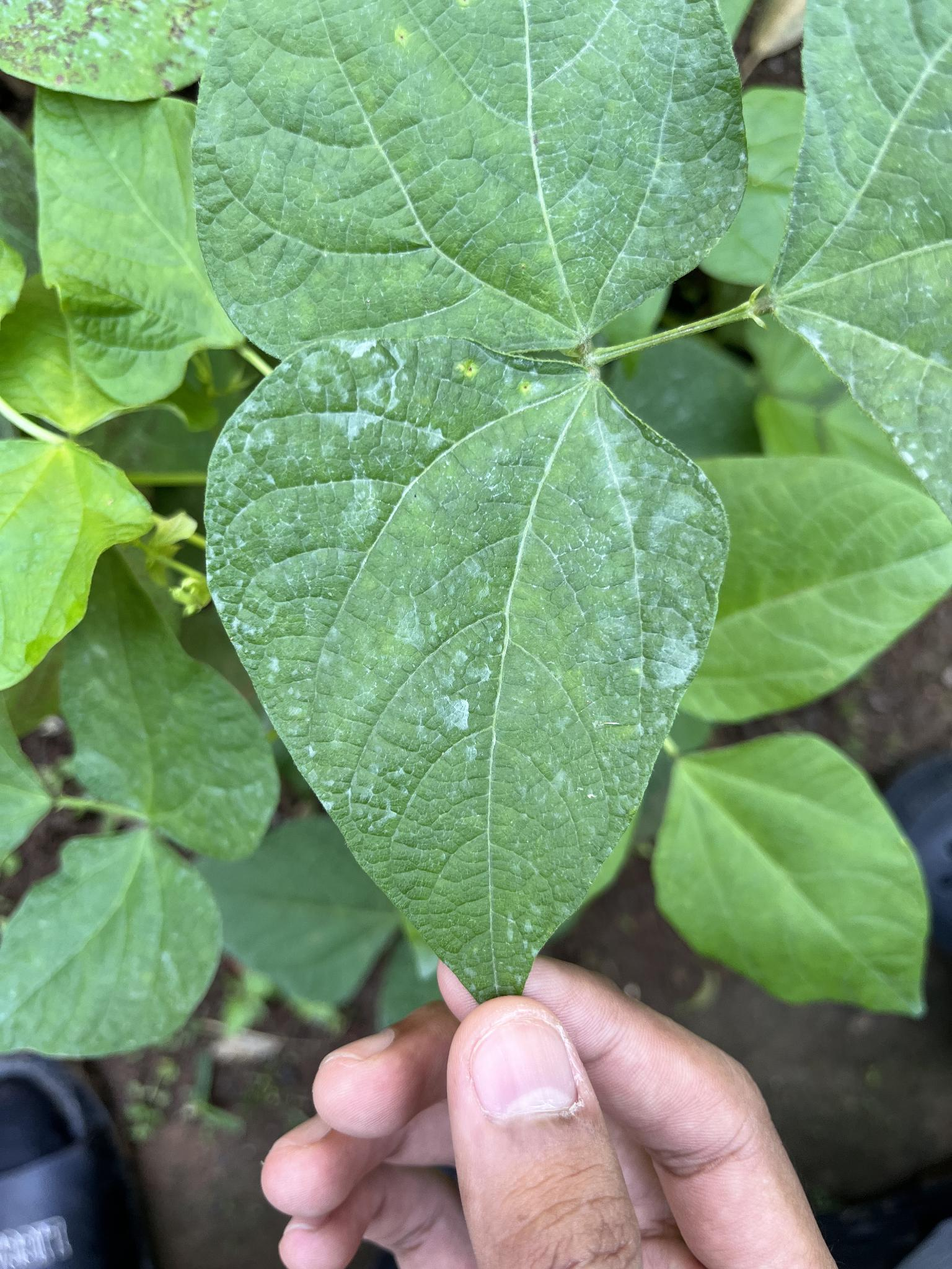embun tepung: (205, 328, 438, 919)
